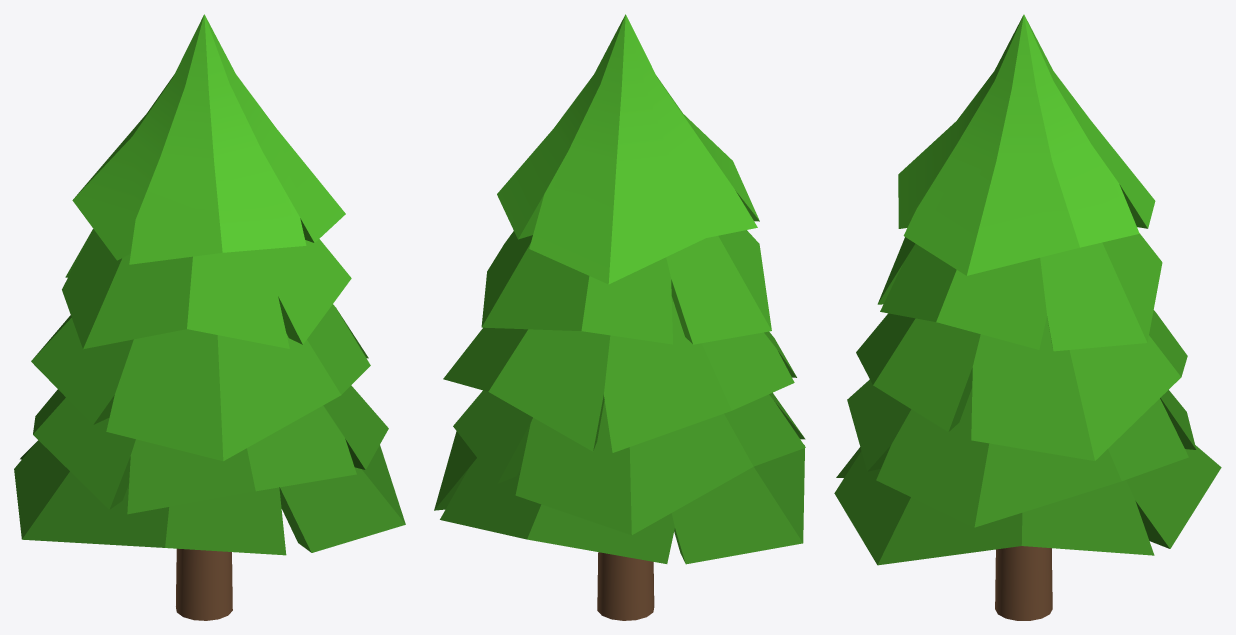
The model's file is Spruce_Green_Thick_3.fbx.
The picture shows the model from 3 angles, left to right: view 1: azimuth 30°, elevation 25°; view 2: azimuth 150°, elevation 25°; view 3: azimuth 270°, elevation 25°; orthographic projection.
Visible parts, largest first — view 1: Cylinder.321, Cylinder.320, Cylinder.319, Cylinder.317, Cylinder.318, Cylinder.316; view 2: Cylinder.321, Cylinder.320, Cylinder.318, Cylinder.319, Cylinder.317, Cylinder.316; view 3: Cylinder.321, Cylinder.320, Cylinder.318, Cylinder.319, Cylinder.317, Cylinder.316.
Boxes of the visible parts, x1,y1,x2,y2 form: Cylinder.321: (72, 14, 345, 264); Cylinder.320: (31, 304, 370, 461); Cylinder.319: (62, 229, 351, 349); Cylinder.317: (14, 440, 405, 555); Cylinder.318: (33, 385, 388, 514); Cylinder.316: (176, 548, 232, 620); Cylinder.321: (497, 14, 759, 284); Cylinder.320: (443, 296, 796, 452); Cylinder.318: (453, 390, 805, 535); Cylinder.319: (481, 230, 771, 344); Cylinder.317: (434, 431, 804, 564); Cylinder.316: (597, 552, 654, 620); Cylinder.321: (898, 14, 1155, 275); Cylinder.320: (856, 310, 1187, 460); Cylinder.318: (847, 379, 1196, 527); Cylinder.319: (877, 233, 1162, 351); Cylinder.317: (834, 445, 1221, 565); Cylinder.316: (995, 546, 1052, 620).
Size of the model in its own units: 347 by 567 by 334.
